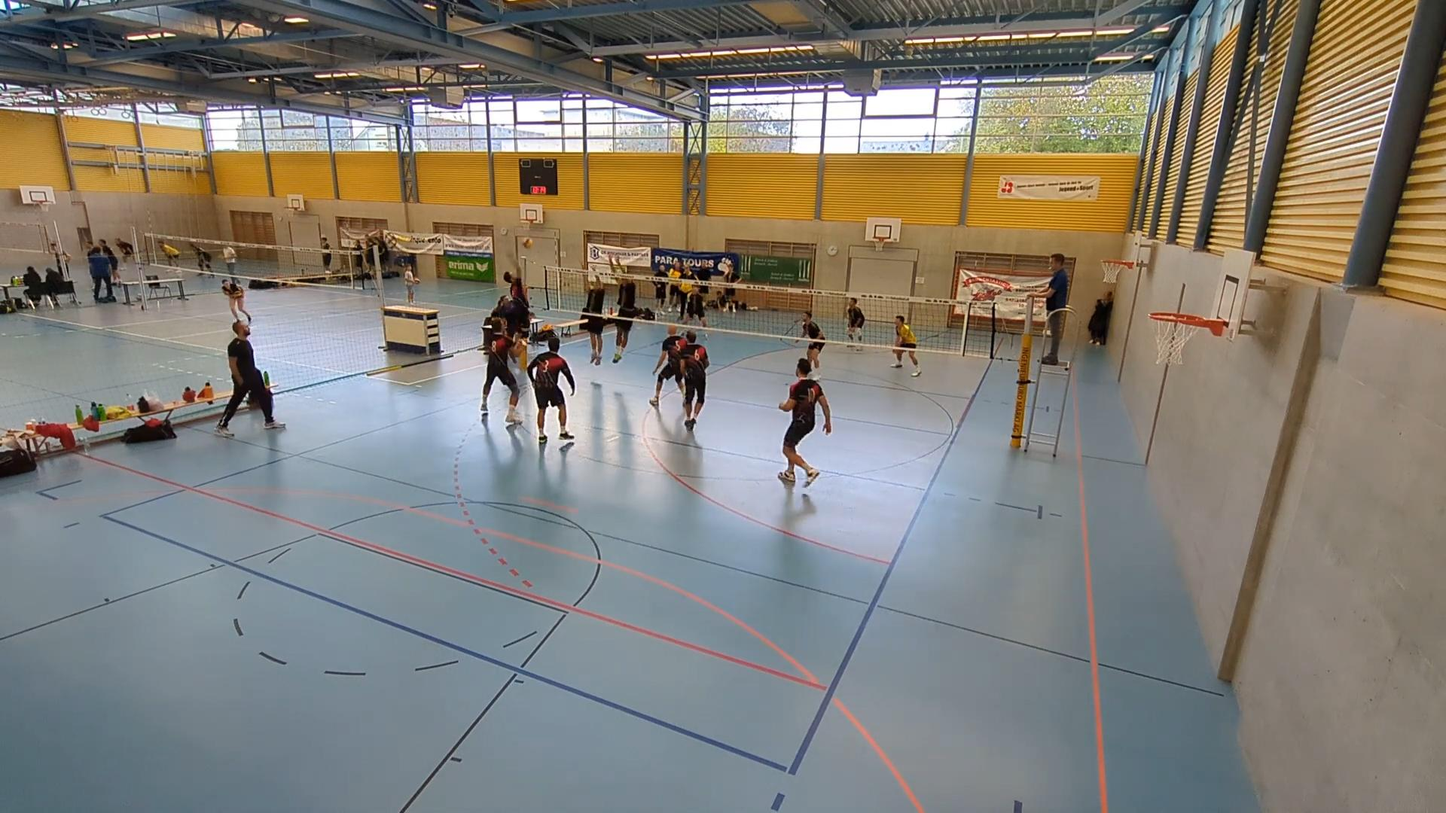attacco: (505, 244, 532, 327)
muro: (604, 248, 639, 371), (576, 258, 607, 366)
